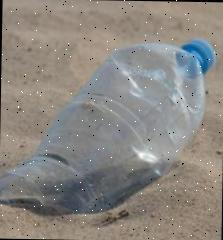plastic: (0, 33, 215, 217)
